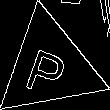P_N: (24, 36, 75, 97)
